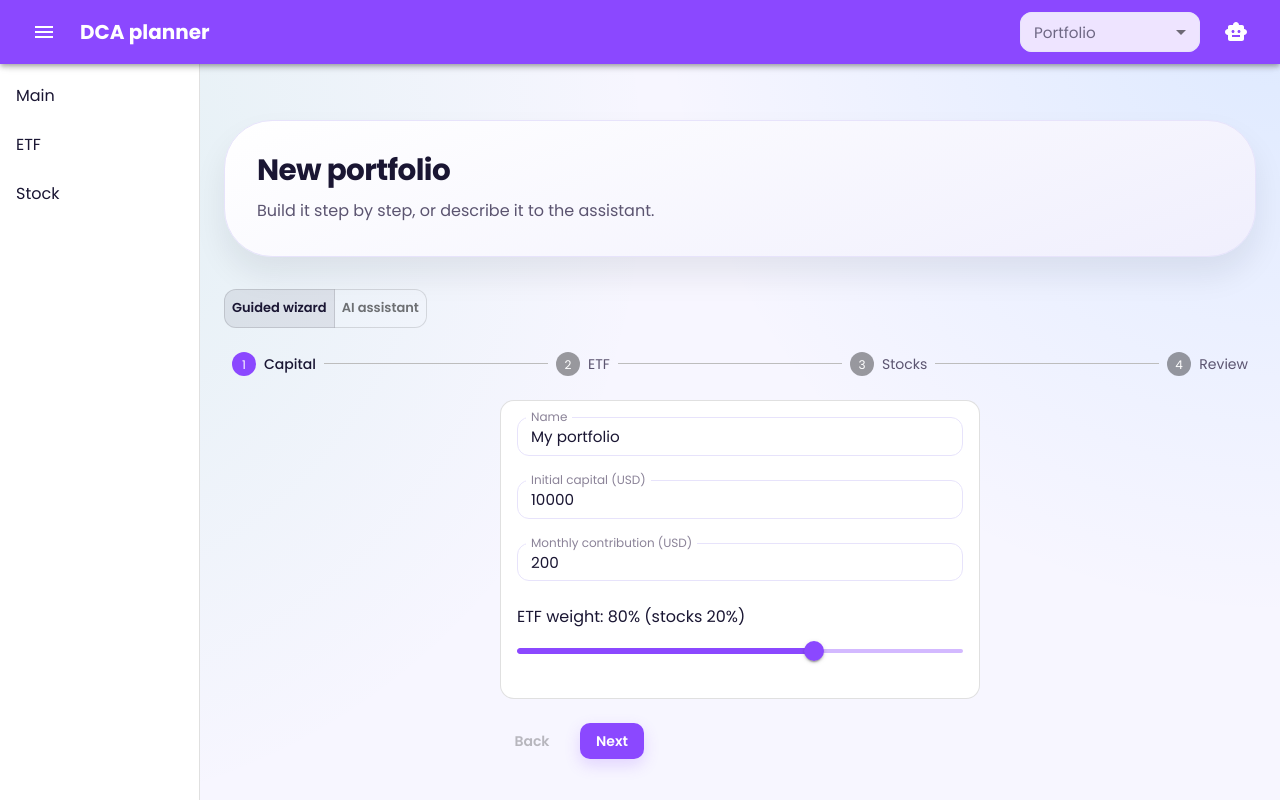
Test case: WizardPage › shows the created portfolio in the header selector
Click the button "Next".
click(612, 741)  # box x1=580 y1=723 x2=644 y2=759
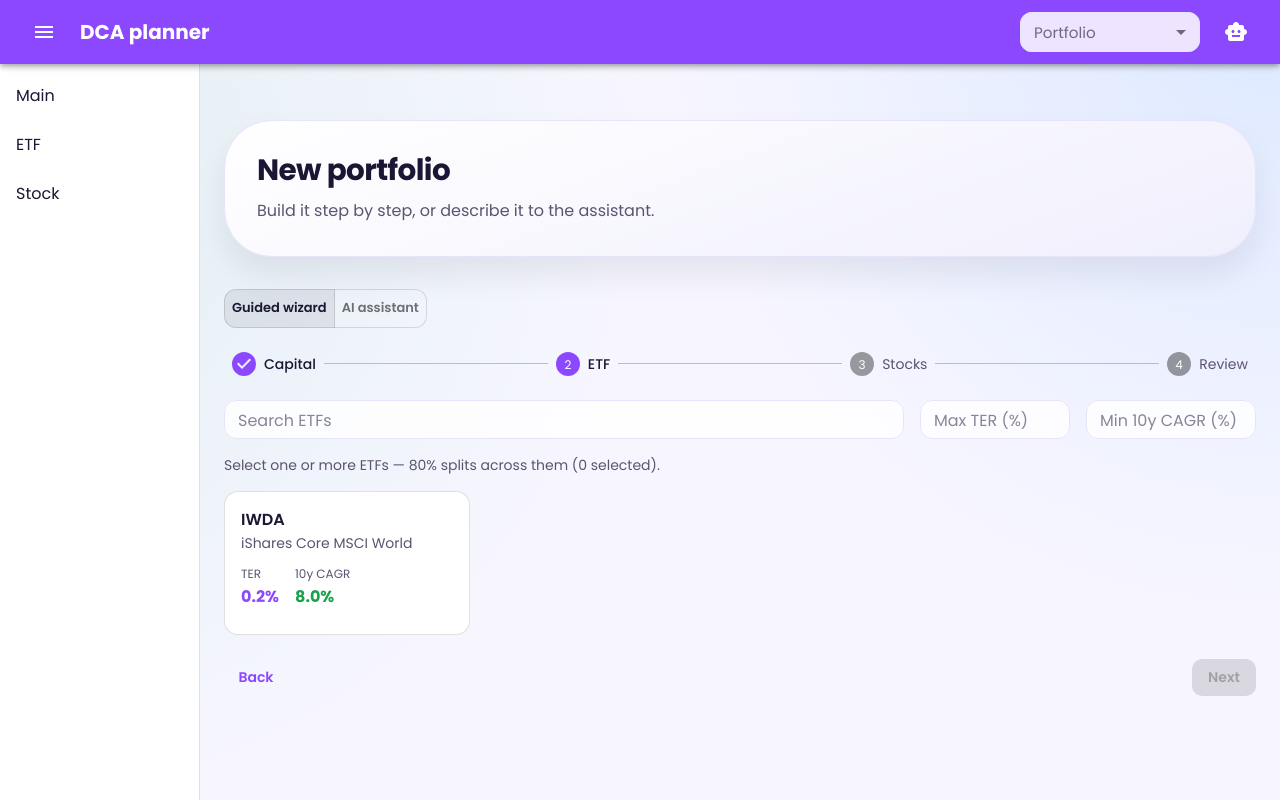
Click the text "IWDA".
click(263, 519)  # box x1=241 y1=508 x2=285 y2=531
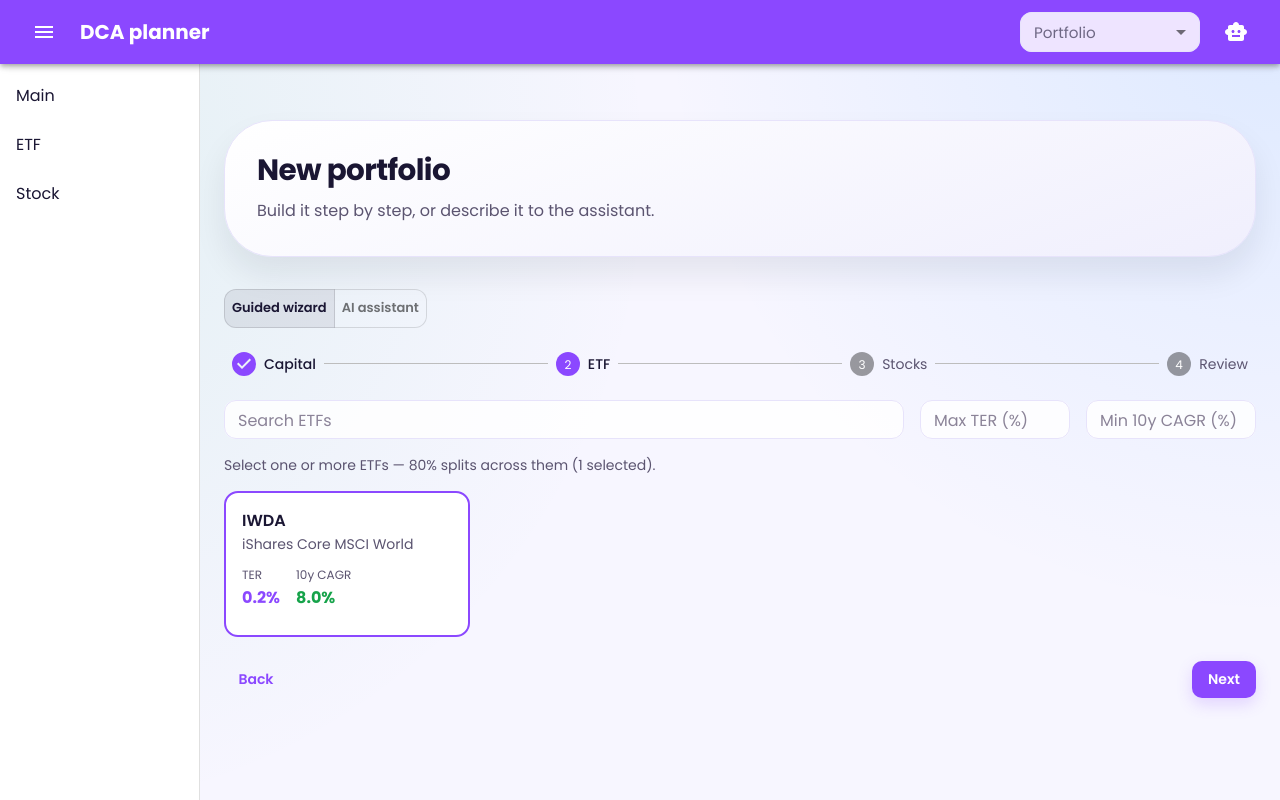
Click the button "Next".
click(1224, 679)  # box x1=1192 y1=661 x2=1256 y2=698
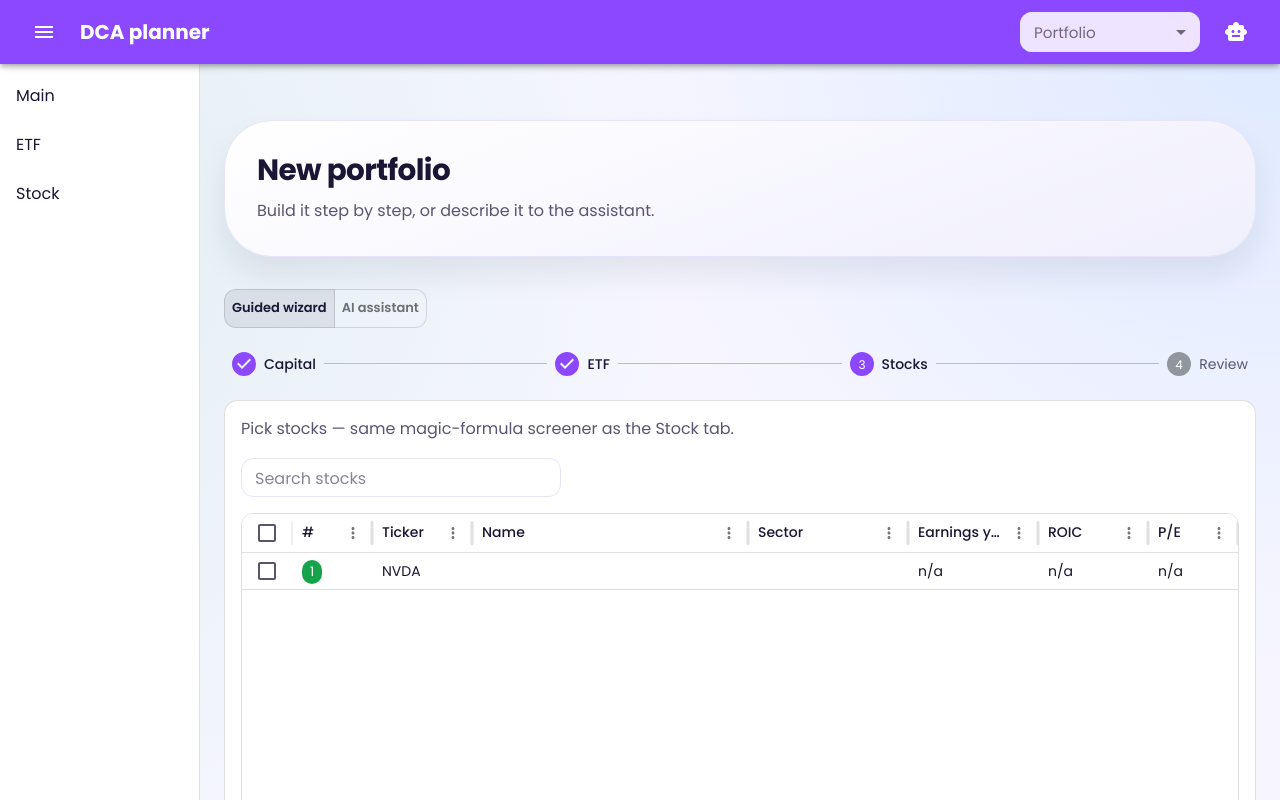
Note: satellite step is now the screener DataGrid — select the NVDA row via its checkbox
Click the checkbox named "select all rows".
click(267, 532)  # box x1=255 y1=520 x2=279 y2=544
(page scrolled)
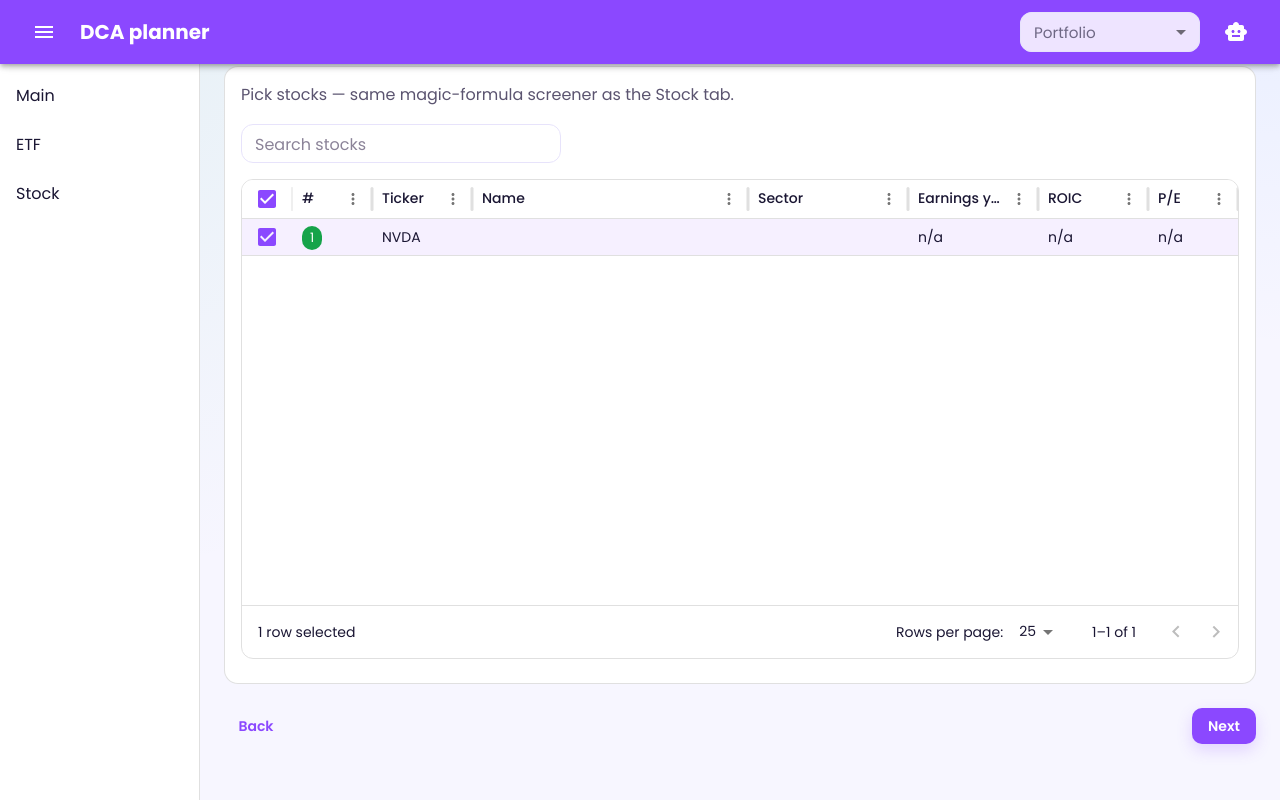
Click the button "Next".
click(1224, 726)  # box x1=1192 y1=708 x2=1256 y2=744
(page scrolled)
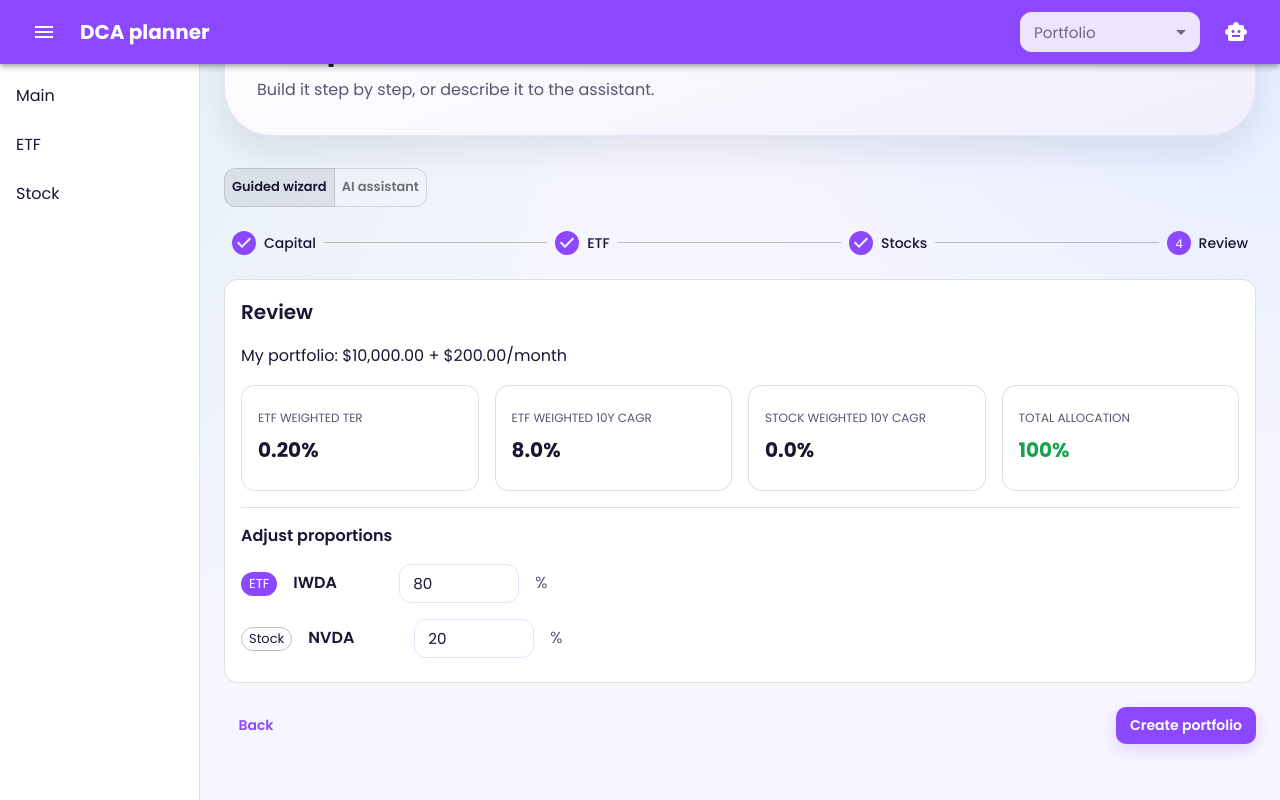
Click the button "Create portfolio".
click(1186, 725)  # box x1=1116 y1=707 x2=1256 y2=744
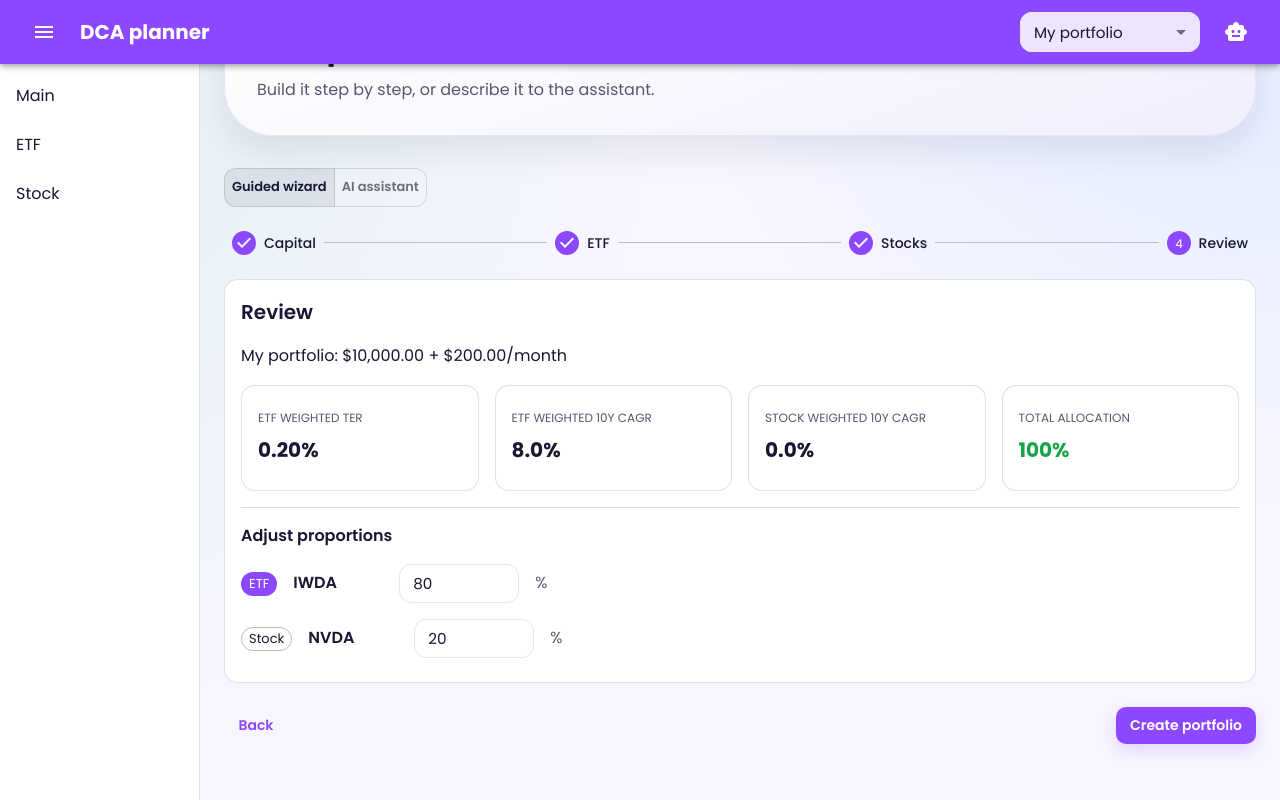
Result: the dropdown reads "My portfolio" at x1=1034 y1=22 x2=1123 y2=42
